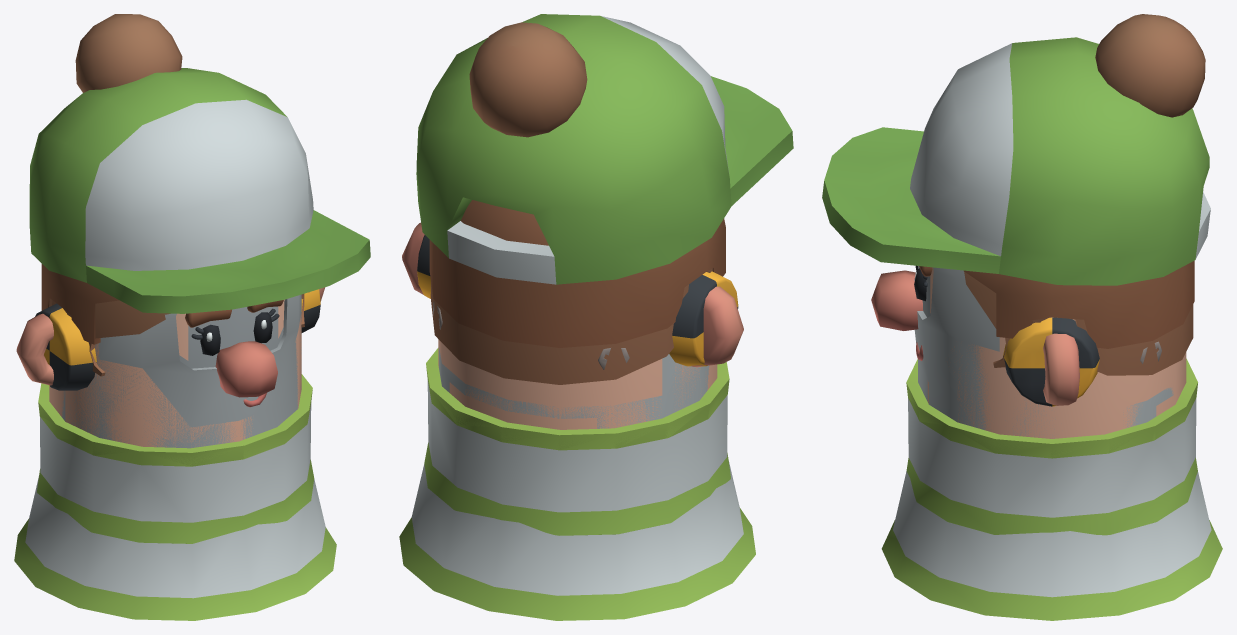
Rendered from capsule_lite.fbx.
3 views of the same model, side by side, from view 1: azimuth 30°, elevation 25°; view 2: azimuth 150°, elevation 25°; view 3: azimuth 270°, elevation 25° (orthographic). The views are drawn at different scales.
Parts seen in each view (by area): view 1: capsule_basic_cap, capsule_basic_dress, capsule_dummy_body, capsule_basic_body, capsule_basic_hair_female, capsule_basic_shirt, capsule_dummy_ears, capsule_basic_nose, capsule_basic_hair_male, capsule_basic_ears, capsule_basic_eyes, capsule_basic_eyebrows; view 2: capsule_basic_cap, capsule_basic_dress, capsule_basic_hair_male, capsule_basic_hair_female, capsule_basic_body, capsule_basic_shirt, capsule_dummy_body, capsule_dummy_ears, capsule_basic_ears; view 3: capsule_basic_cap, capsule_basic_dress, capsule_basic_hair_female, capsule_basic_hair_male, capsule_basic_body, capsule_dummy_body, capsule_basic_shirt, capsule_dummy_ears, capsule_basic_nose, capsule_basic_ears.
Boxes of the visible parts, x1=… form: capsule_basic_cap: x1=29, y1=68, x2=370, y2=313; capsule_basic_dress: x1=14, y1=374, x2=336, y2=620; capsule_dummy_body: x1=62, y1=294, x2=301, y2=448; capsule_basic_body: x1=49, y1=299, x2=301, y2=447; capsule_basic_hair_female: x1=49, y1=14, x2=304, y2=376; capsule_basic_shirt: x1=37, y1=390, x2=314, y2=543; capsule_dummy_ears: x1=35, y1=289, x2=320, y2=390; capsule_basic_nose: x1=215, y1=341, x2=277, y2=397; capsule_basic_hair_male: x1=41, y1=264, x2=119, y2=344; capsule_basic_ears: x1=16, y1=287, x2=325, y2=385; capsule_basic_eyes: x1=200, y1=312, x2=272, y2=355; capsule_basic_eyebrows: x1=185, y1=300, x2=283, y2=327; capsule_basic_cap: x1=416, y1=14, x2=793, y2=284; capsule_basic_dress: x1=399, y1=348, x2=755, y2=620; capsule_basic_hair_male: x1=429, y1=200, x2=725, y2=347; capsule_basic_hair_female: x1=430, y1=22, x2=712, y2=384; capsule_basic_body: x1=438, y1=339, x2=717, y2=429; capsule_basic_shirt: x1=424, y1=382, x2=730, y2=535; capsule_dummy_body: x1=433, y1=302, x2=709, y2=428; capsule_dummy_ears: x1=417, y1=235, x2=738, y2=366; capsule_basic_ears: x1=402, y1=222, x2=743, y2=367; capsule_basic_cap: x1=822, y1=37, x2=1210, y2=285; capsule_basic_dress: x1=881, y1=358, x2=1222, y2=620; capsule_basic_hair_female: x1=964, y1=14, x2=1205, y2=375; capsule_basic_hair_male: x1=964, y1=260, x2=1194, y2=348; capsule_basic_body: x1=927, y1=267, x2=1186, y2=438; capsule_dummy_body: x1=914, y1=266, x2=1173, y2=438; capsule_basic_shirt: x1=906, y1=383, x2=1197, y2=535; capsule_dummy_ears: x1=1003, y1=317, x2=1099, y2=406; capsule_basic_nose: x1=871, y1=270, x2=923, y2=330; capsule_basic_ears: x1=1043, y1=333, x2=1079, y2=405.
Size of the model in its own units: 1.38 by 2.41 by 1.49.
Materials: 2 (2 with a texture image).
